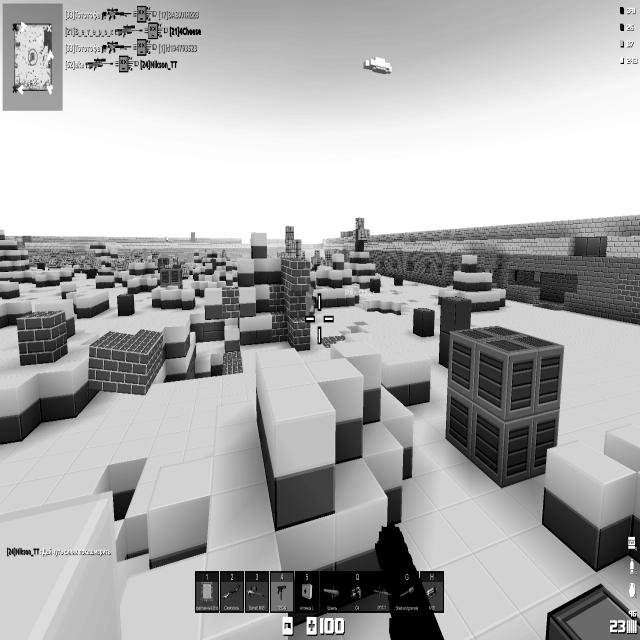Head: (304, 284, 316, 298)
Player: (300, 282, 315, 322)
